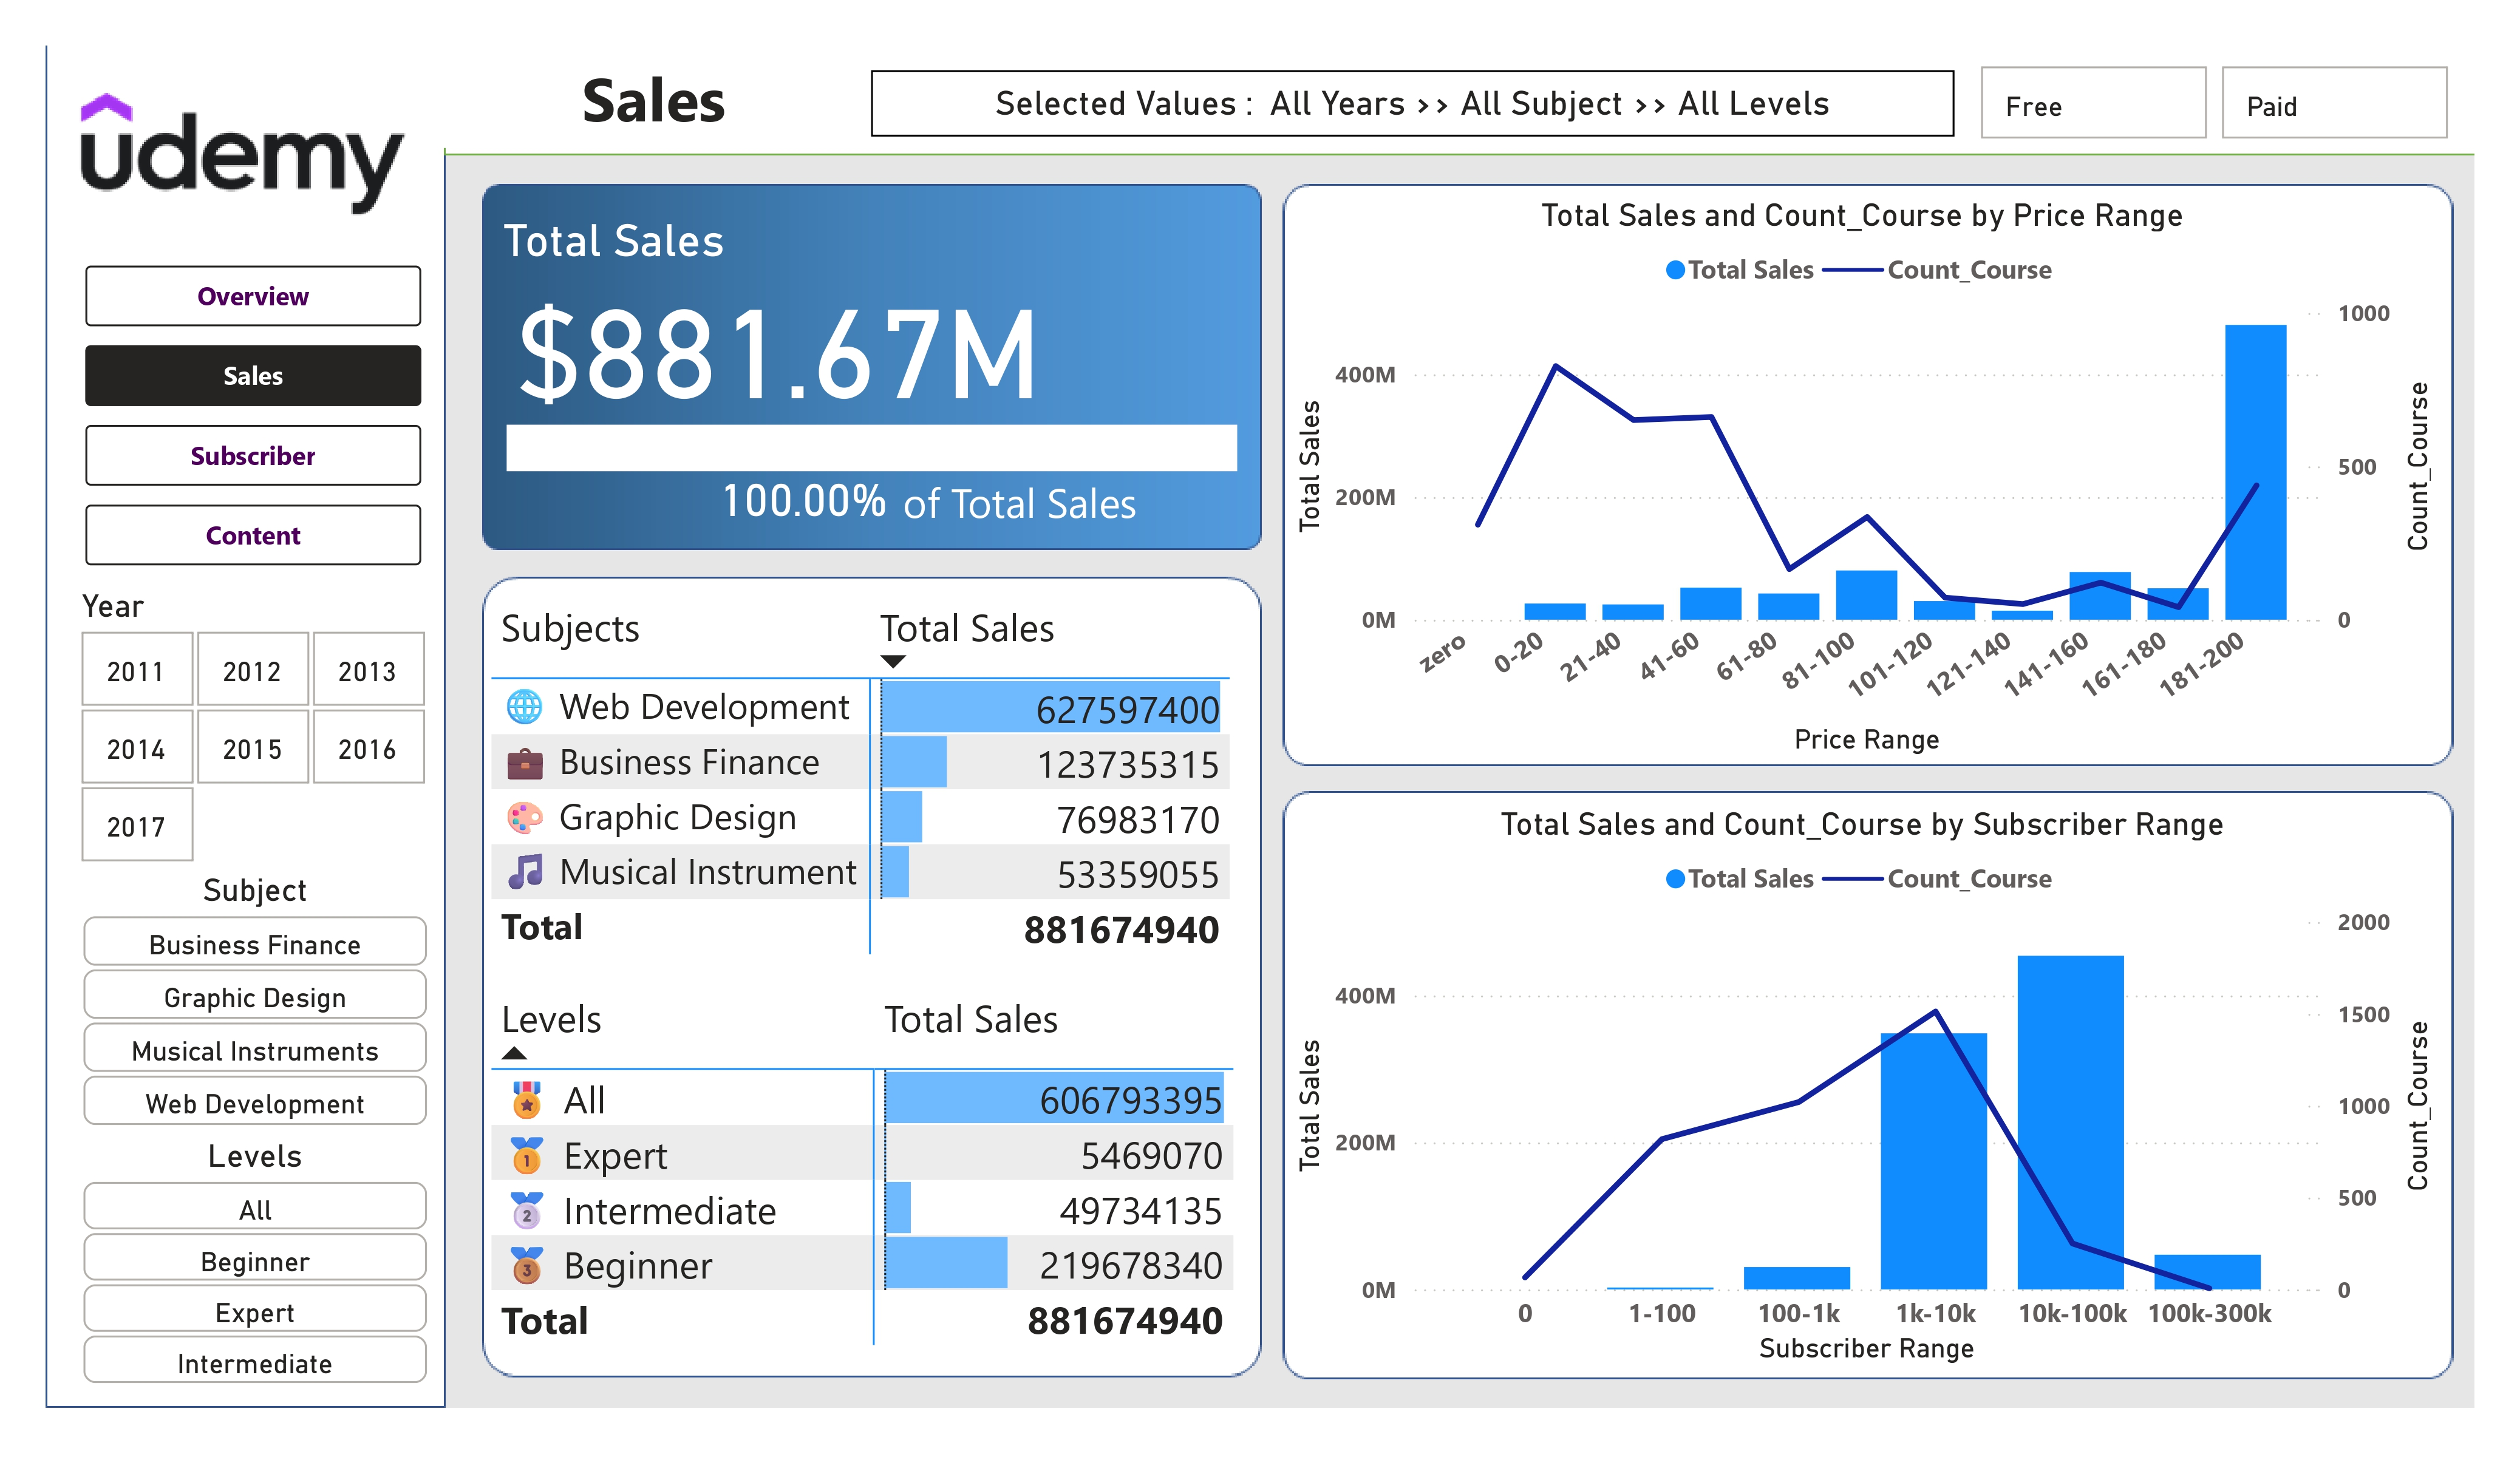

What the dashboard file says about the page in this screenshot:
{"tool":"powerbi","page":{"name":"Sales","canvas":[1280,720],"ordinal":1},"visuals":[{"type":"lineStackedColumnComboChart","fields":{"Category":["dim_pricerange.Range"],"Y":["_Measures.Total Sales"],"Y2":["_Measures.Count_Course"]},"box":[652.6,78.9,609.2,300],"z":0},{"type":"pageNavigator","box":[21.2,116.2,176.2,160],"z":1000},{"type":"advancedSlicerVisual","title":"Levels","fields":{"Values":["dim_level.Level"]},"box":[14.9,575.1,191.2,135.9],"z":2000},{"type":"advancedSlicerVisual","title":"Subject","fields":{"Values":["dim_subject.subject"]},"box":[14.9,434.7,191.2,140.4],"z":3000},{"type":"advancedSlicerVisual","fields":{"Values":["dim_date.Year"]},"box":[14.3,285,191.4,150],"z":4000},{"type":"lineStackedColumnComboChart","fields":{"Y":["_Measures.Total Sales"],"Y2":["_Measures.Count_Course"],"Category":["dim_subscriber_range.Range"]},"box":[652.6,400,609.2,300],"z":5000},{"type":"cardVisual","title":"Total Sales","fields":{"Data":["_Measures.Total Sales"]},"box":[230.7,79.3,340.9,117.6],"z":6000},{"type":"hundredPercentStackedBarChart","fields":{"Y":["_Measures.# Sales Difference","_Measures.Total Sales"]},"box":[238,154.3,395.3,110.2],"z":7000},{"type":"cardVisual","fields":{"Data":["_Measures.# pct_total_sales"]},"box":[338.2,201.3,125,63.2],"z":8000},{"type":"textbox","box":[446.8,220.6,164.7,64.2],"z":9000},{"type":"pivotTable","fields":{"Rows":["dim_subject.subject_name"],"Values":["_Measures.Total Sales"]},"box":[230.3,285.5,409.2,206.6],"z":10000},{"type":"pivotTable","fields":{"Values":["_Measures.Total Sales"],"Rows":["dim_level.Level_Icon"]},"box":[230.2,492.1,409.5,207.9],"z":11000},{"type":"advancedSlicerVisual","fields":{"Values":["dim_paid.course_type"]},"box":[1015.1,6.1,255.7,48.1],"z":12000},{"type":"card","fields":{"Values":["_Measures.# Selections Values"]},"box":[435.4,12.7,570.9,35.4],"z":13000},{"type":"textbox","box":[205.8,0,229,53.6],"z":14000}]}

Visuals, with their boxes in screenshot pixels (x1, y1, x2, y2):
lineStackedColumnComboChart - dim_pricerange.Range x _Measures.Total Sales: 1284,195,2440,764
pageNavigator: 86,266,420,569
"Levels" advancedSlicerVisual: 74,1136,437,1394
"Subject" advancedSlicerVisual: 74,870,437,1136
advancedSlicerVisual - dim_date.Year: 73,586,436,871
lineStackedColumnComboChart - _Measures.Total Sales x _Measures.Count_Course: 1284,804,2440,1373
"Total Sales" cardVisual: 483,196,1130,419
hundredPercentStackedBarChart - _Measures.# Sales Difference x _Measures.Total Sales: 497,338,1247,548
cardVisual - _Measures.# pct_total_sales: 687,427,924,548
textbox: 893,464,1206,586
pivotTable - dim_subject.subject_name x _Measures.Total Sales: 483,587,1259,979
pivotTable - _Measures.Total Sales x dim_level.Level_Icon: 482,979,1259,1373
advancedSlicerVisual - dim_paid.course_type: 1972,57,2457,148
card - _Measures.# Selections Values: 872,70,1955,137
textbox: 436,46,871,147
